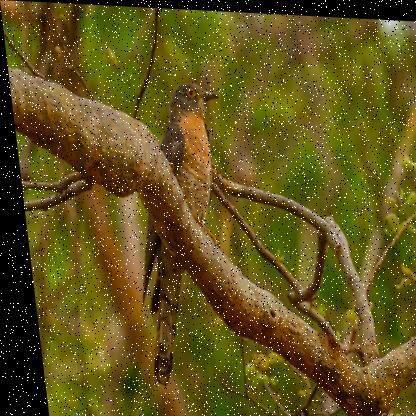Burung: (114, 76, 244, 388)
